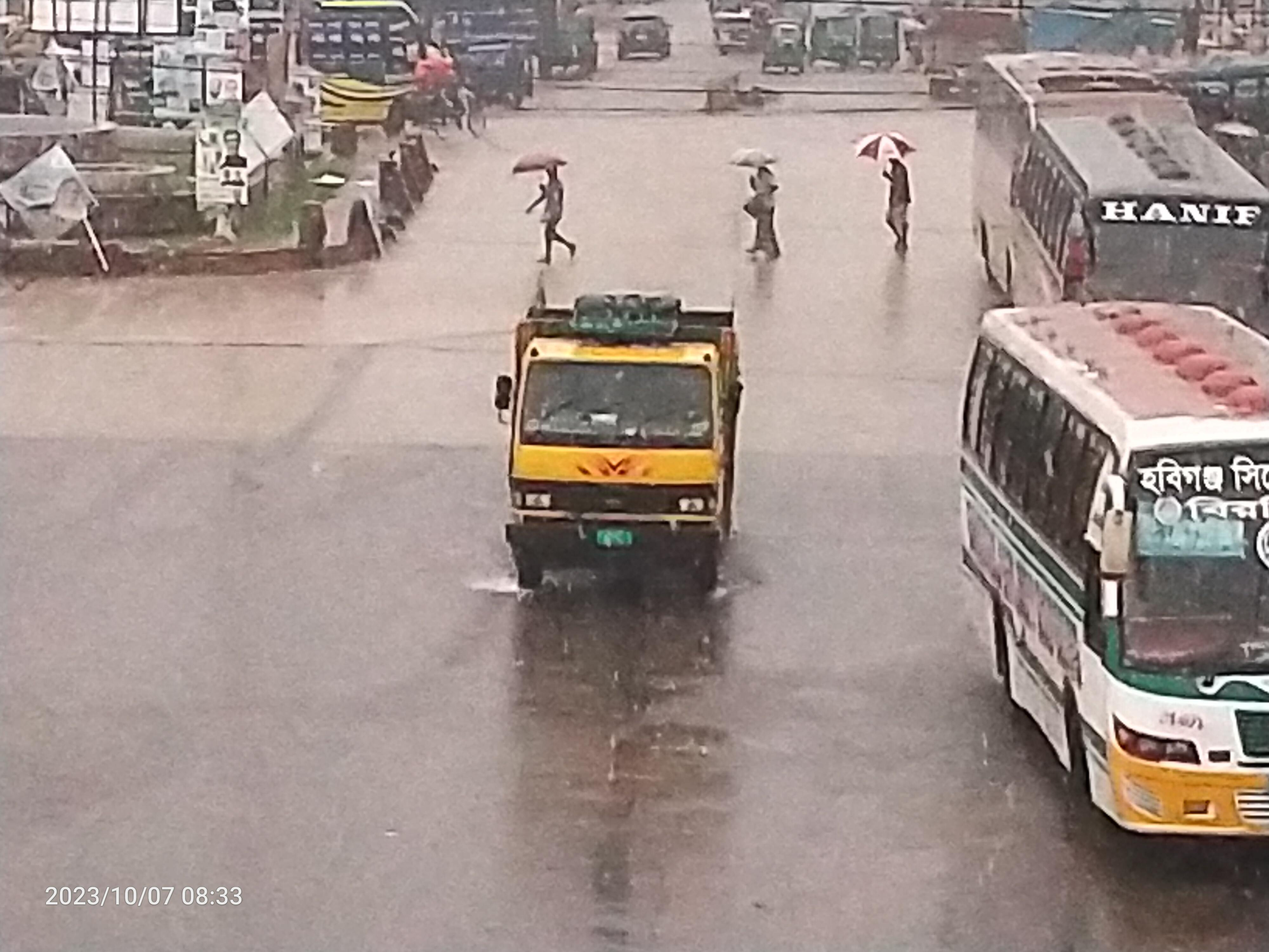Bus: (935, 270, 1269, 884), (965, 77, 1269, 368), (190, 0, 467, 139)
Car: (606, 0, 681, 68)
Truck: (459, 251, 772, 677)
